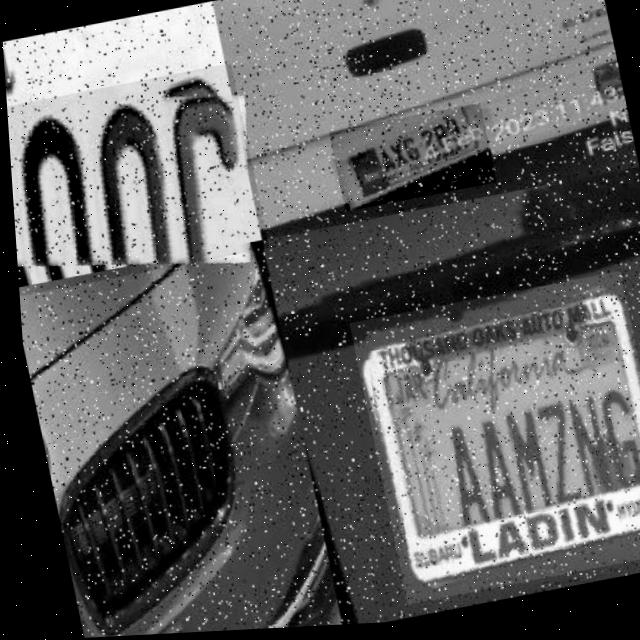LicensePlate: (342, 276, 640, 611), (4, 65, 268, 297), (326, 108, 495, 215)
